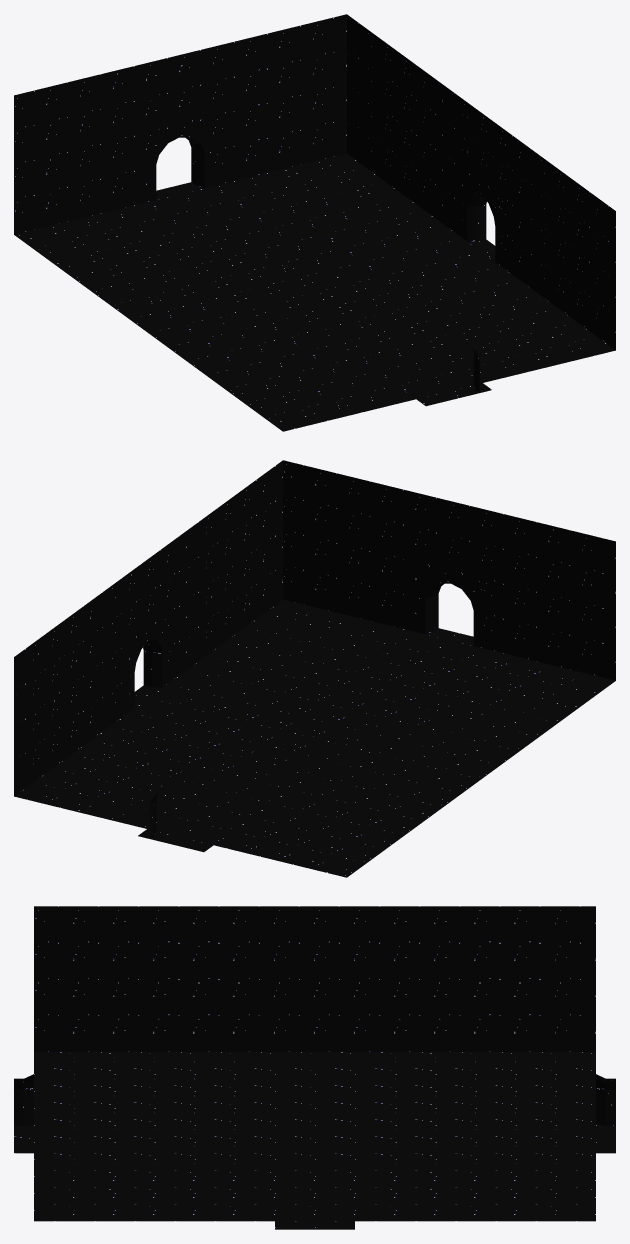
File: Room11.glb
3 views of the same model, one above another, from view 1: azimuth 30°, elevation 25°; view 2: azimuth 150°, elevation 25°; view 3: azimuth 270°, elevation 25° (orthographic). The views are drawn at different scales.
Parts seen in each view (by area): view 1: Room11_Floor_Floor7, Room11_Walls_Wall51, Room11_Walls_Wall42; view 2: Room11_Floor_Floor7, Room11_Doorway4_Half2, Room11_Walls_Wall42; view 3: Room11_Floor_Floor7, Room11_Walls_Wall27, Room11_Doorway4_Half2, Room11_Walls_Wall51.
Part boxes in pixels (x1,y1,x2,y2): Room11_Floor_Floor7: (14,153,615,431); Room11_Walls_Wall51: (14,14,346,234); Room11_Walls_Wall42: (347,14,615,350); Room11_Floor_Floor7: (14,599,615,877); Room11_Doorway4_Half2: (283,460,615,680); Room11_Walls_Wall42: (14,460,282,796); Room11_Floor_Floor7: (14,1051,615,1229); Room11_Walls_Wall27: (34,906,595,1051); Room11_Doorway4_Half2: (14,1074,33,1125); Room11_Walls_Wall51: (596,1074,615,1125).
Size of the model in its own units: 10.5 by 4 by 15.
Materials: 6 (6 with a texture image).
